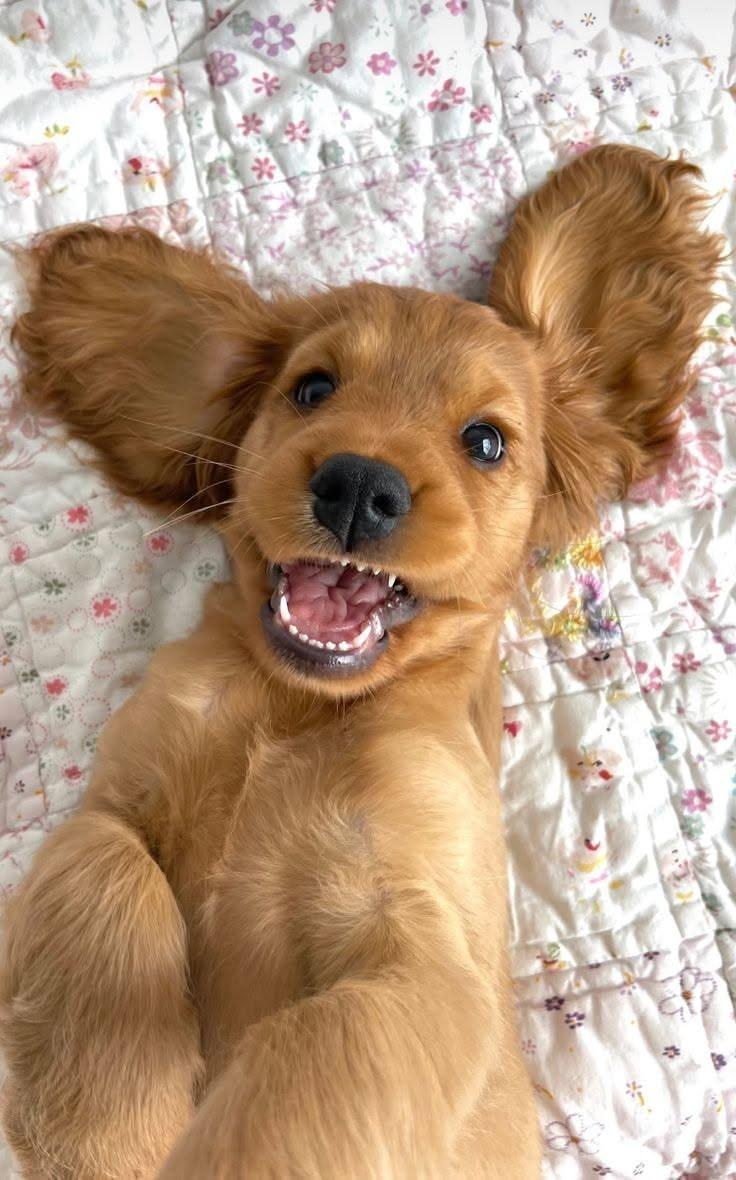puppy-dog: (0, 139, 735, 1180)
